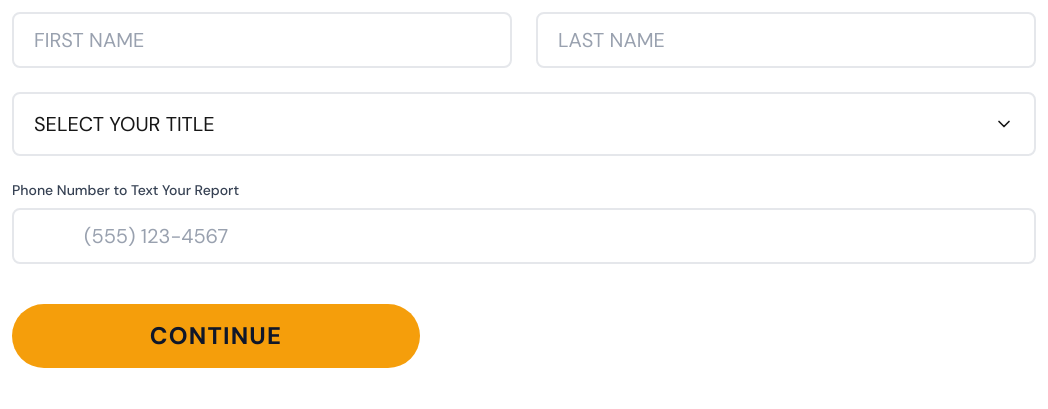
Test: FormStep1 › should validate phone number format on blur
The width and height of the screenshot is (1048, 409).
Note: Enter invalid phone (too short)
Type "12345" into the field with placeholder "(555) 123-4567" at (524, 236), box [12, 208, 1036, 264]
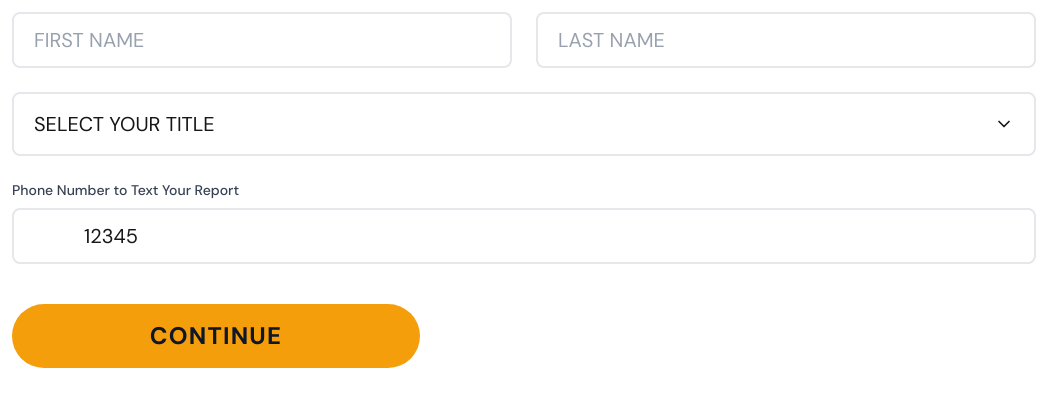
Leave the field with placeholder "(555) 123-4567", box [12, 208, 1036, 264]
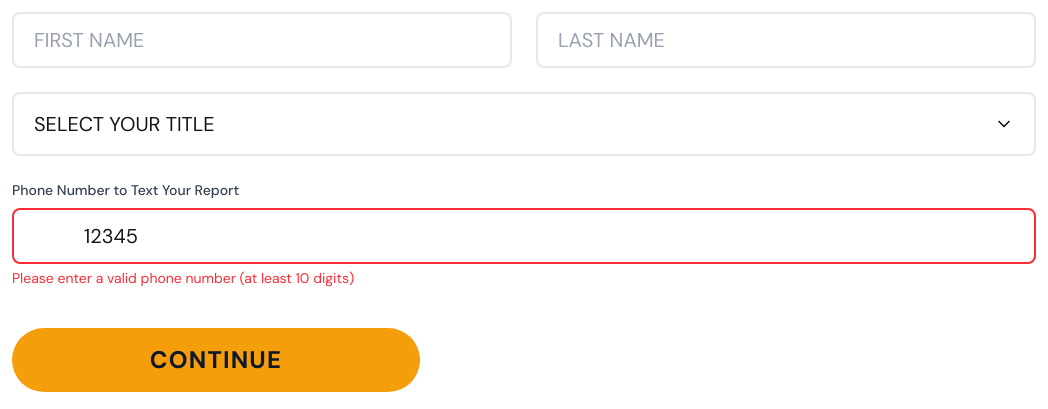
Expected: the text "Please enter a valid phone number (at least 10 digits)" is shown, [12, 269, 354, 287]
Note: Enter valid phone
Replace the text in the field with placeholder "(555) 123-4567" with "(555) 123-4567" at (524, 236), box [12, 208, 1036, 264]
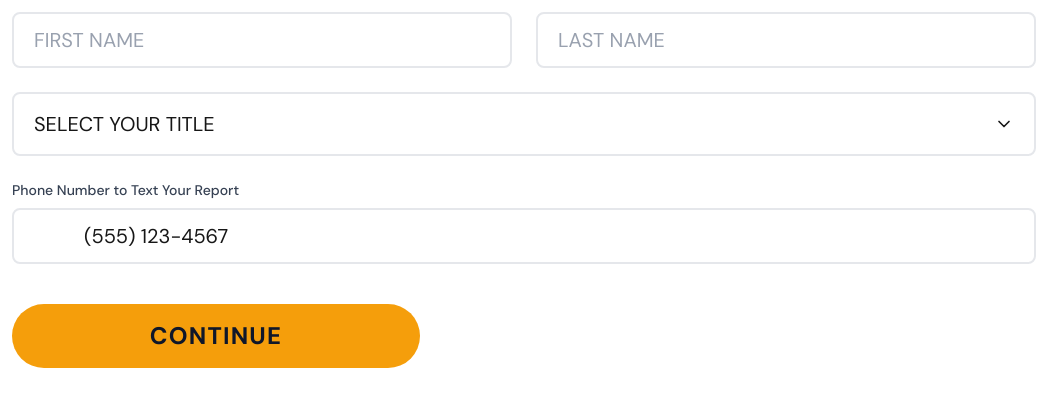
Expected: the text "Please enter a valid phone number" is gone
